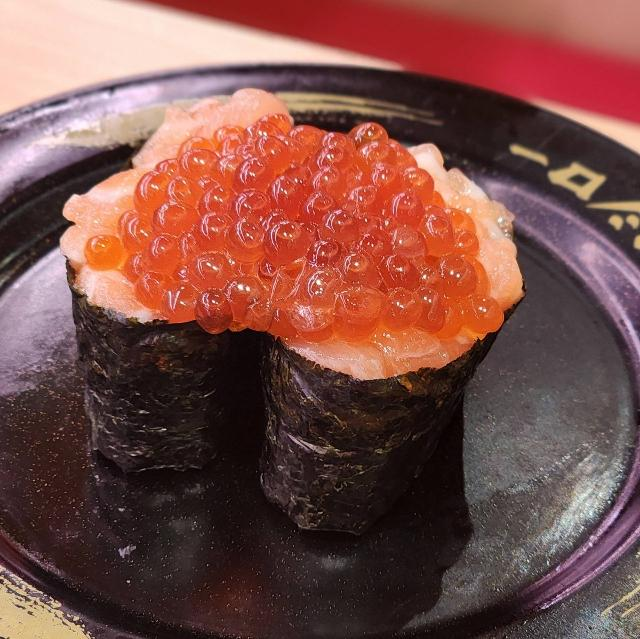janback: (4, 86, 640, 639)
